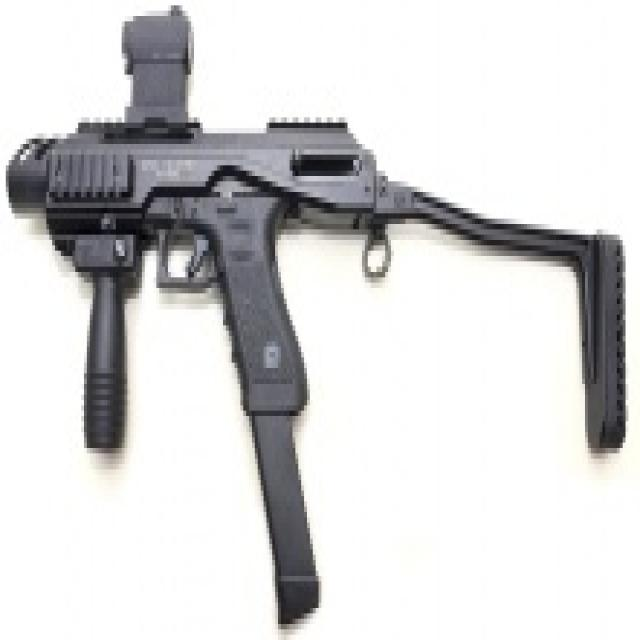rifle: (5, 1, 636, 640)
